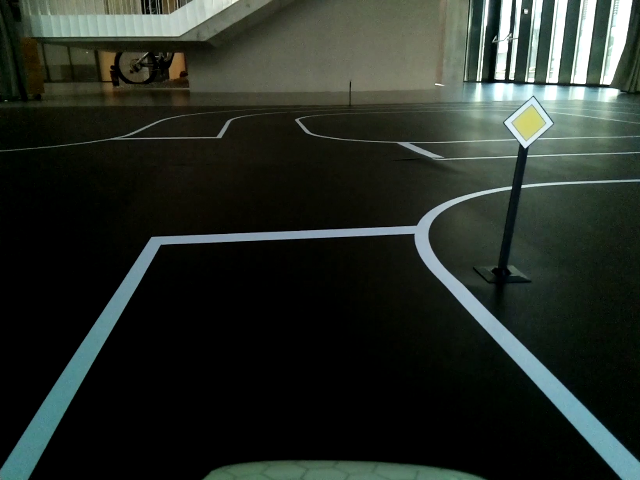priority: (500, 96, 555, 152)
